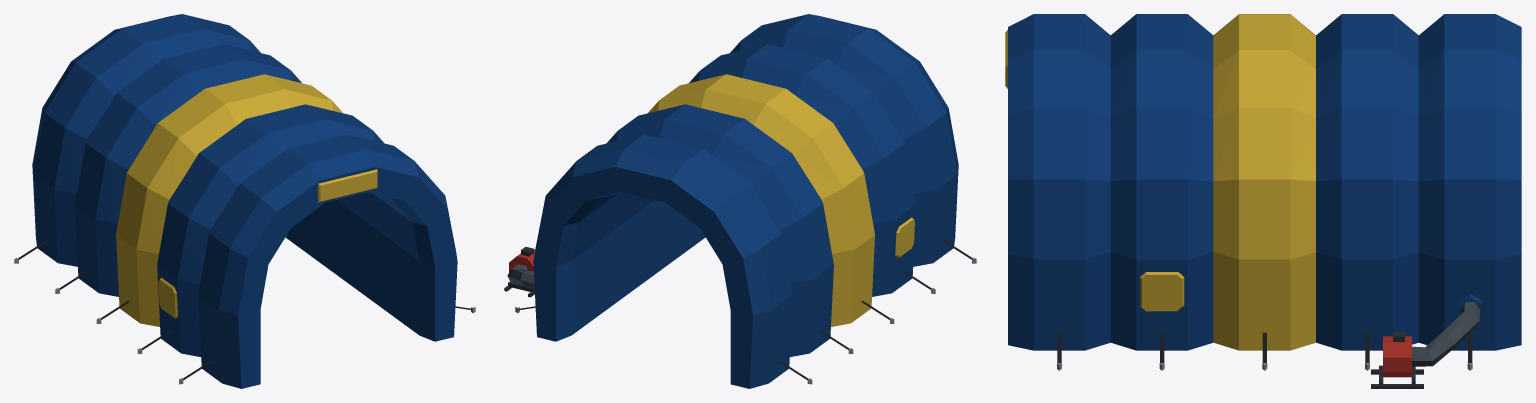
Rendered from inflatable-team-tunnel-c71c5c.glb.
3 renders of one model, left to right at view 1: azimuth 30°, elevation 25°; view 2: azimuth 150°, elevation 25°; view 3: azimuth 270°, elevation 25°, orthographic. The views are drawn at different scales.
Parts seen in each view (by area): view 1: tunnel; view 2: tunnel; view 3: tunnel.
Part boxes in pixels (bbox=[...]): tunnel: bbox=[14, 14, 475, 388]; tunnel: bbox=[504, 14, 976, 388]; tunnel: bbox=[1005, 14, 1521, 388].
Size of the model in its own units: 5.5 by 3.2 by 6.03.
